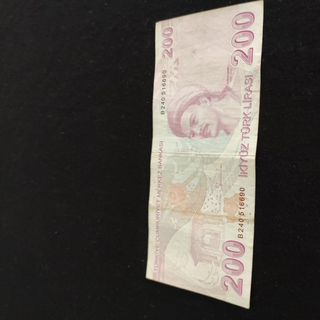200TLBack: (145, 0, 263, 309)
